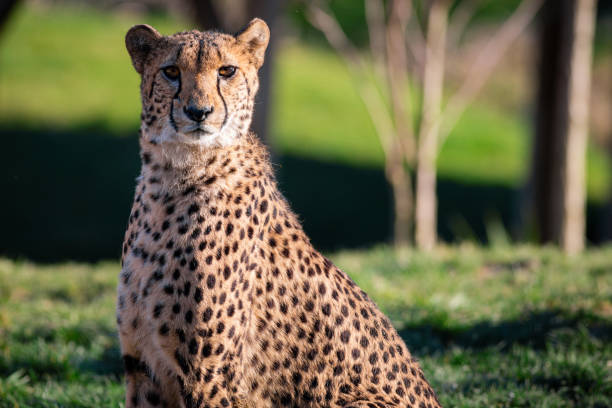cheetah: (110, 10, 286, 172)
